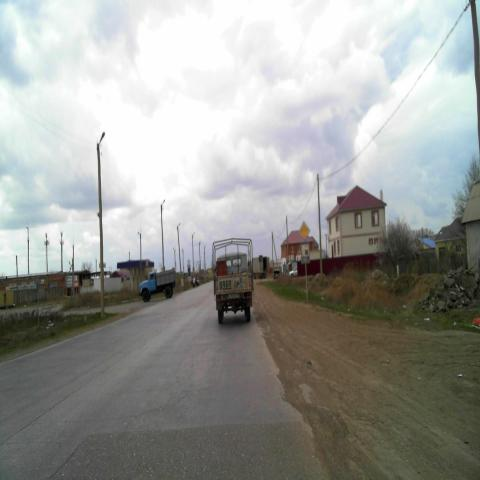7_3: (301, 241, 310, 263)
